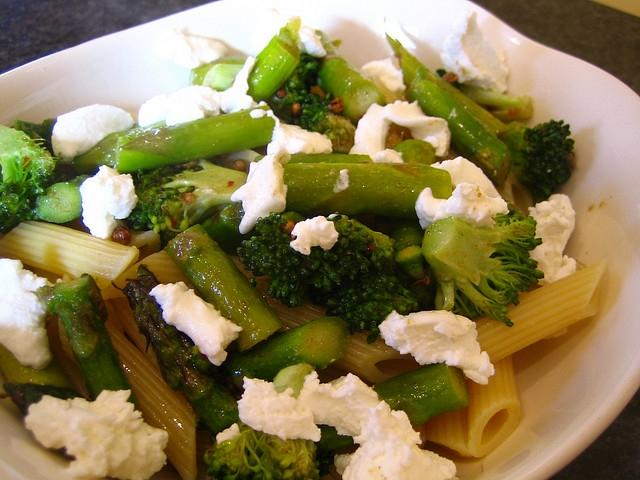broccoli: (236, 211, 420, 344), (422, 198, 544, 328), (163, 224, 284, 354), (29, 274, 140, 410), (316, 361, 470, 450), (405, 64, 513, 190), (121, 157, 249, 248), (114, 104, 276, 175), (281, 162, 453, 220), (223, 316, 350, 390), (269, 54, 356, 150), (204, 423, 319, 480), (496, 119, 577, 199), (0, 125, 56, 233), (248, 16, 302, 104), (0, 343, 76, 391), (448, 81, 532, 124), (34, 174, 94, 224)
